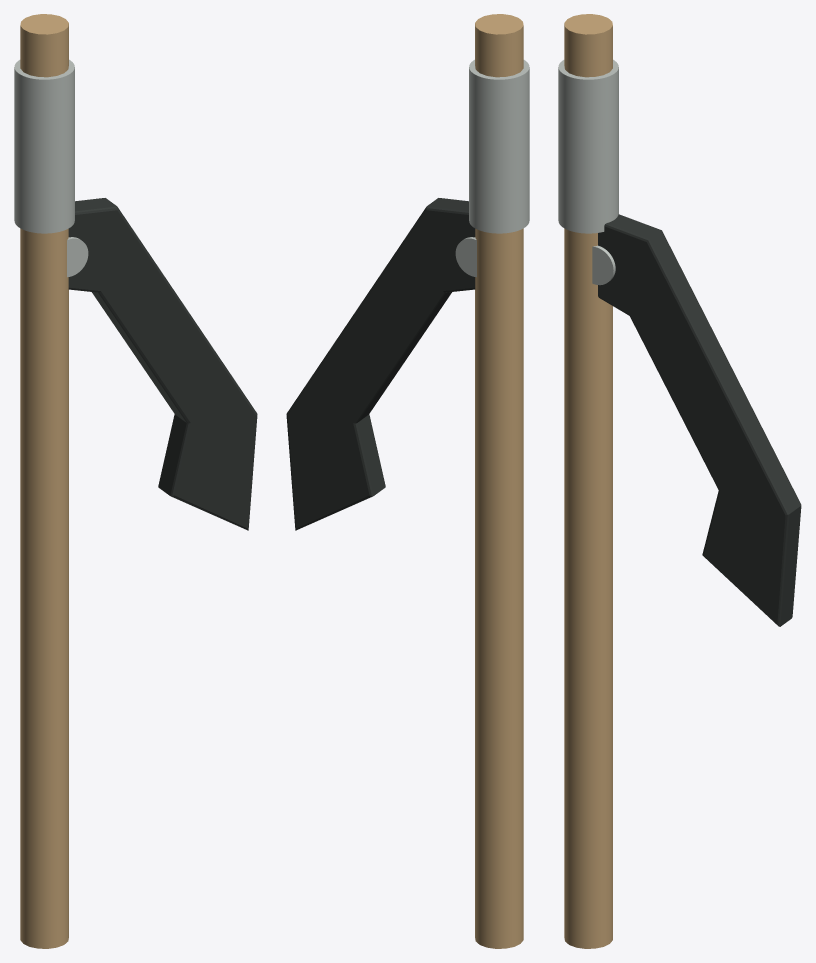
File: sawmill-and-timber-yard-cant-hook-a9a119b2__31201.glb
3 renders of one model, left to right at view 1: azimuth 30°, elevation 25°; view 2: azimuth 150°, elevation 25°; view 3: azimuth 330°, elevation 25°, orthographic.
Visible parts, largest first — view 1: cant-hook; view 2: cant-hook; view 3: cant-hook.
Part boxes in pixels (x1,y1,x2,y2): cant-hook: (14, 14, 257, 948); cant-hook: (286, 14, 529, 948); cant-hook: (558, 14, 801, 948).
Size of the model in its own units: 0.2851 by 1.07 by 0.064.
